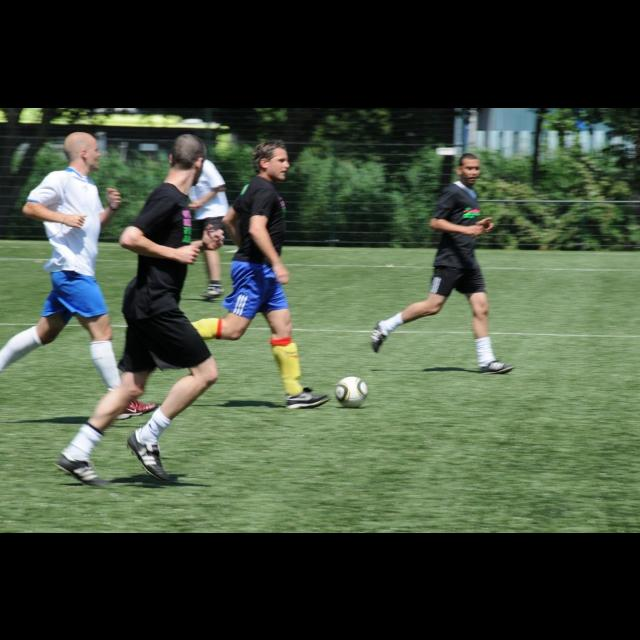Football: (332, 374, 368, 406), (333, 374, 367, 406)
